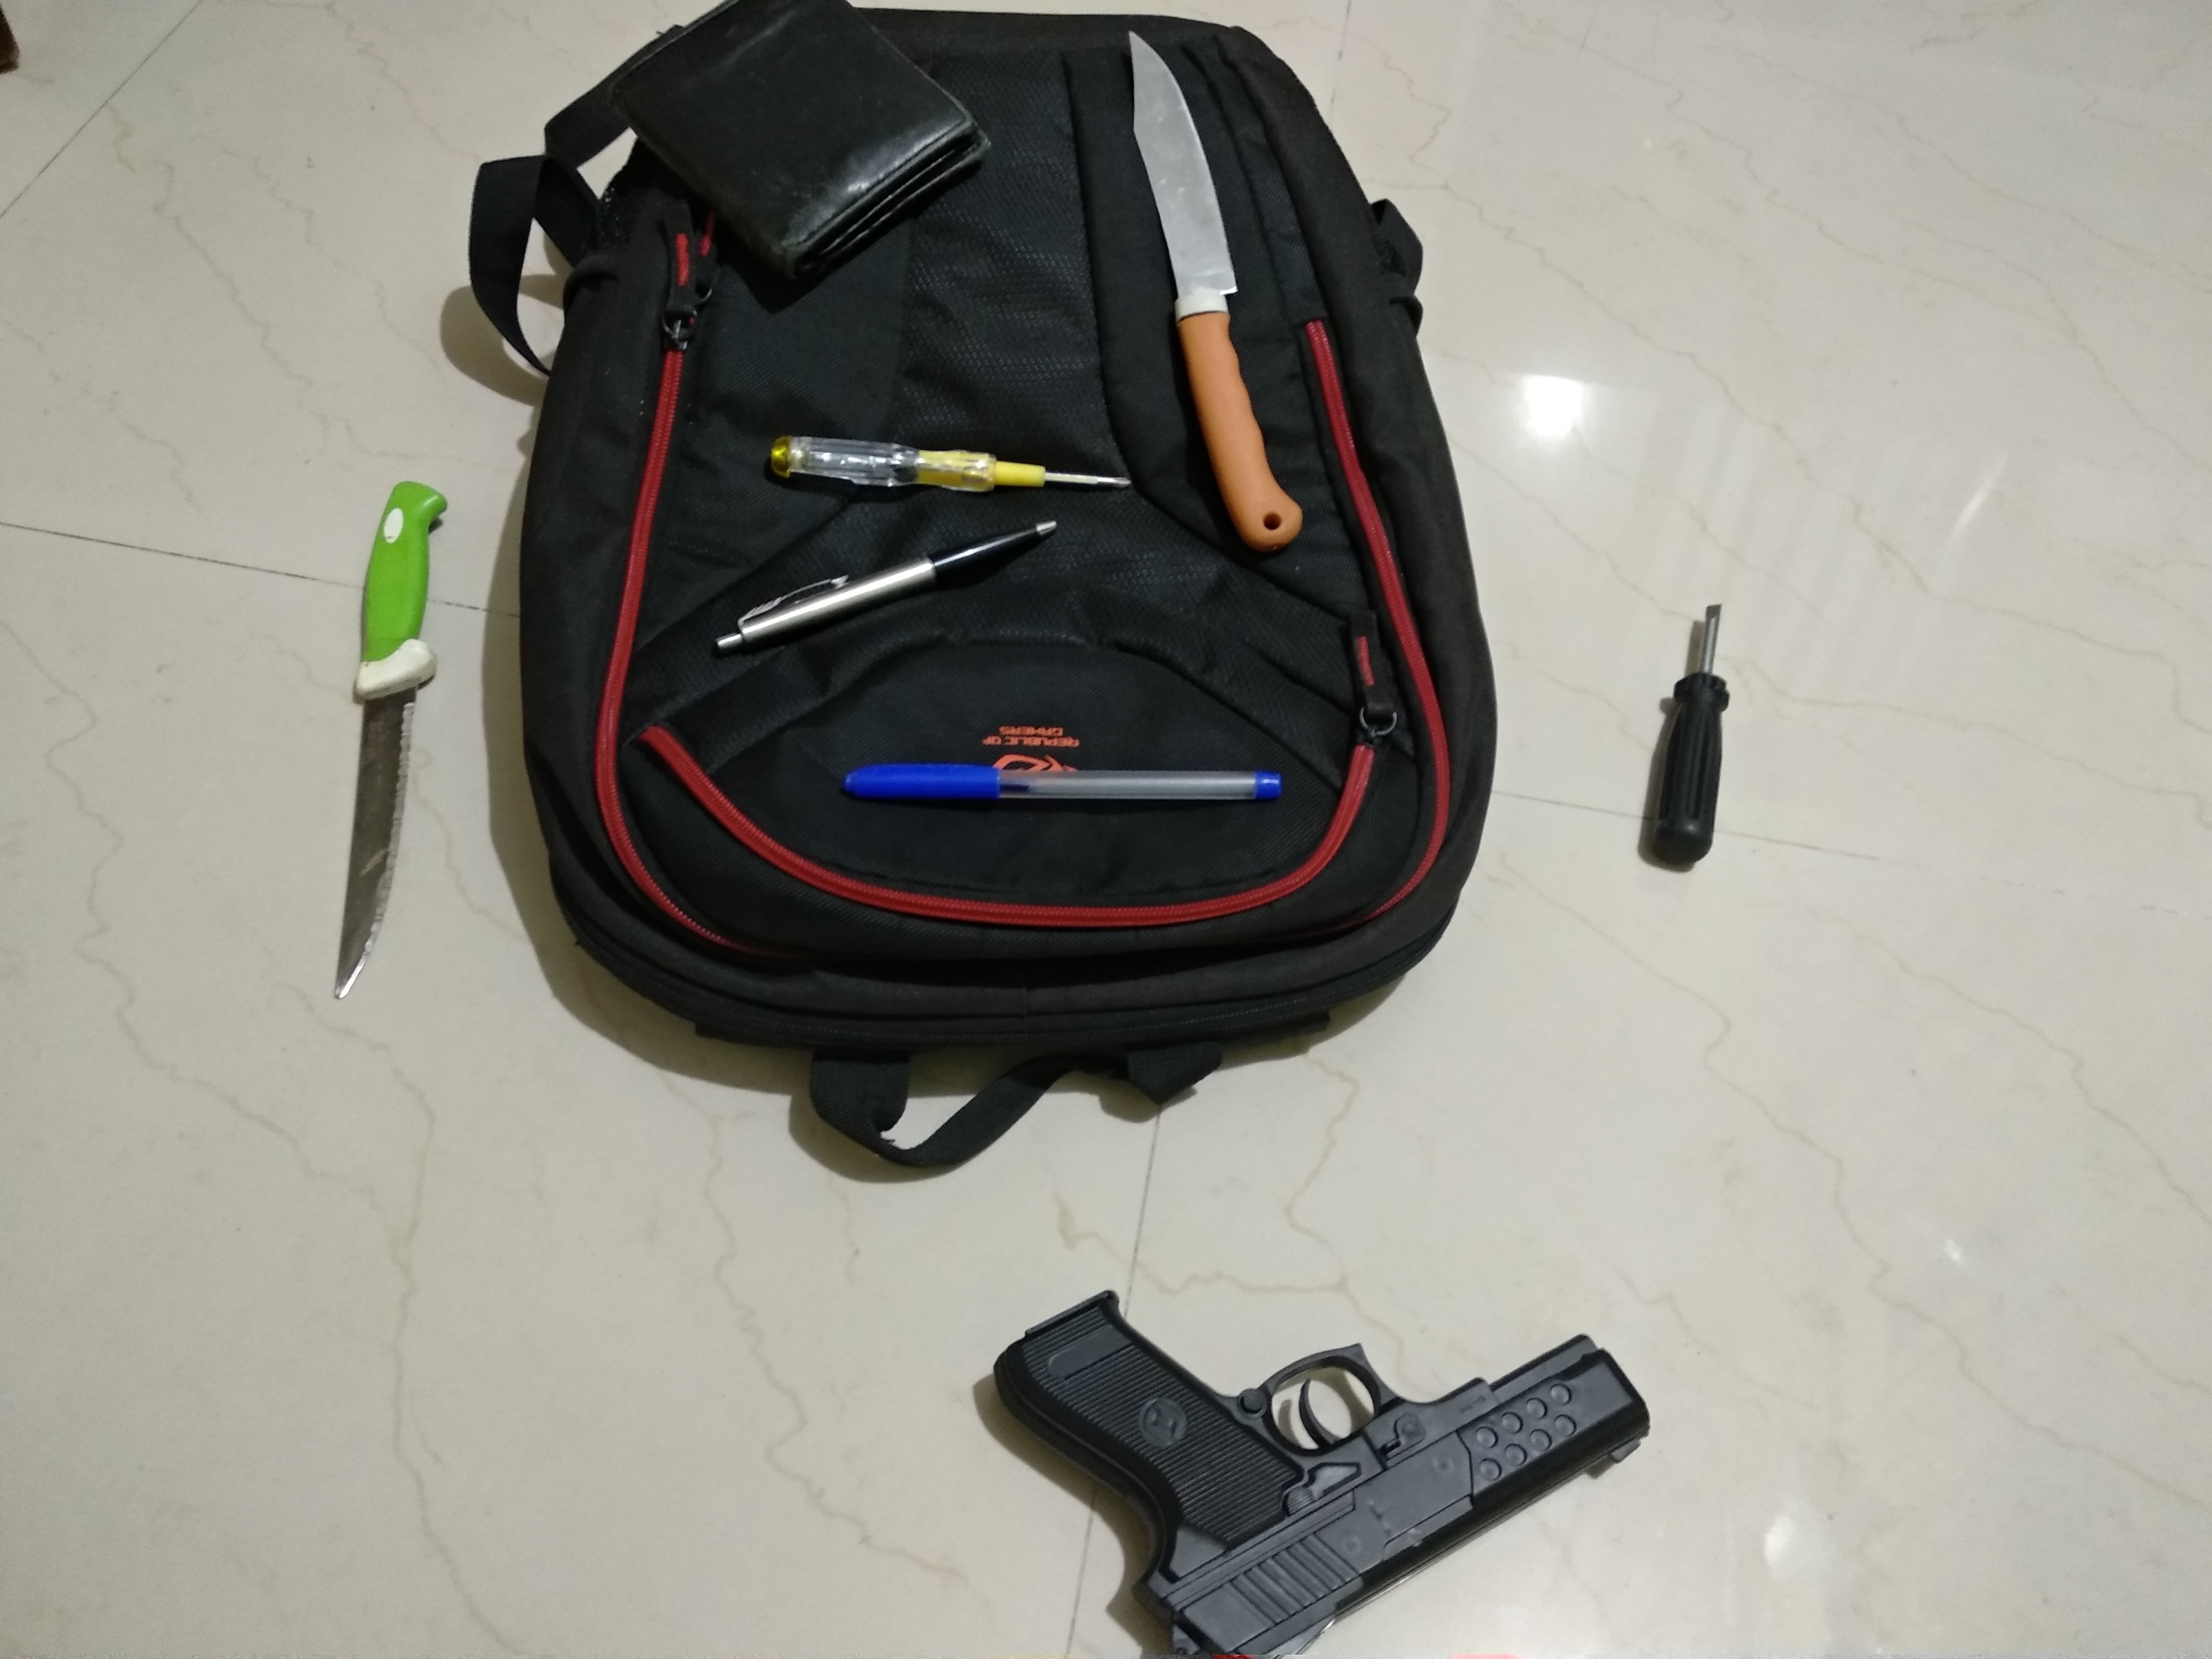gun: (991, 1267, 1684, 1659)
knife: (1125, 17, 1315, 551), (315, 462, 451, 1007)
none: (697, 507, 1054, 666), (836, 755, 1306, 819)
none2: (611, 0, 986, 261)
none3: (1642, 587, 1740, 887), (745, 430, 1130, 500)
